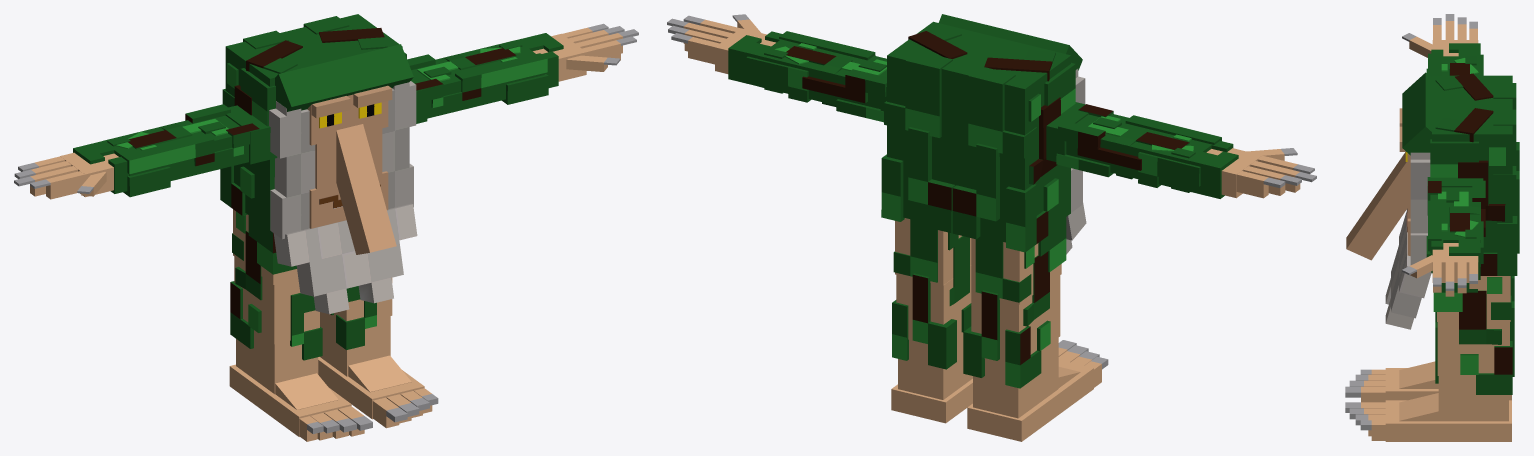
Rendered from BrBrPatapim.fbx.
The picture shows the model from 3 angles, left to right: view 1: azimuth 30°, elevation 25°; view 2: azimuth 150°, elevation 25°; view 3: azimuth 270°, elevation 25°; orthographic projection. The views are drawn at different scales.
Visible parts, largest first — view 1: models.001; view 2: models.001; view 3: models.001.
Part boxes in pixels (x1=…): models.001: x1=14, y1=14, x2=638, y2=441; models.001: x1=667, y1=14, x2=1316, y2=441; models.001: x1=1345, y1=14, x2=1519, y2=441.
Size of the model in its own units: 1288 by 688 by 345.
